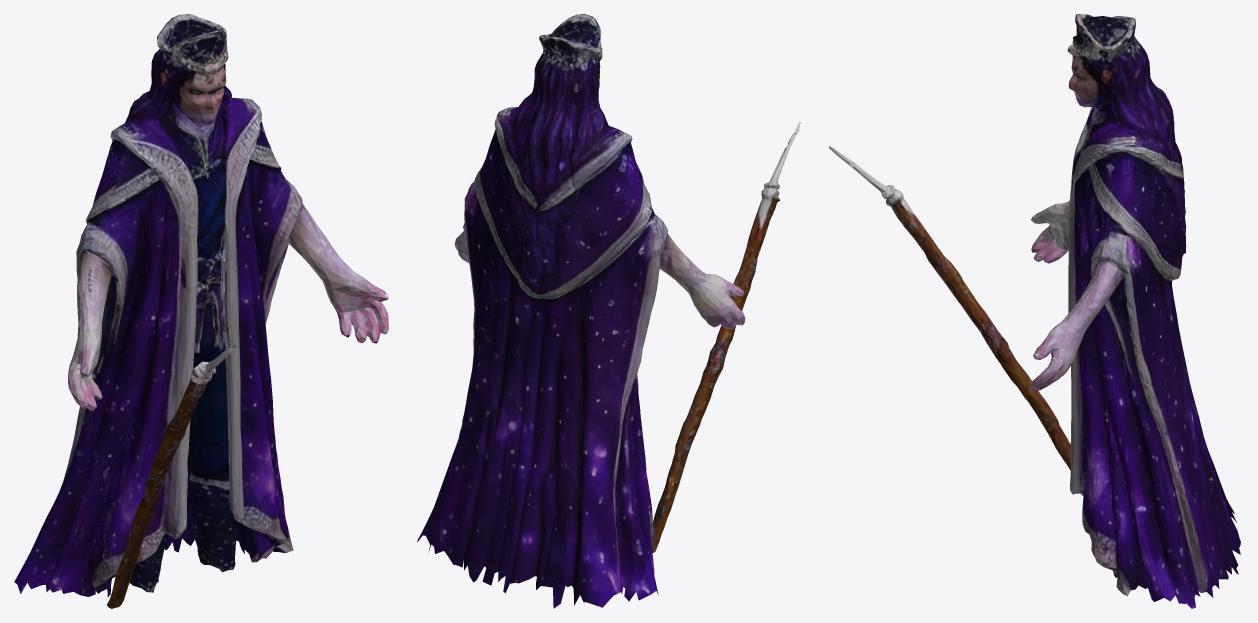
The model's file is boss_sovereign_preview.glb.
3 renders of one model, left to right at view 1: azimuth 30°, elevation 25°; view 2: azimuth 150°, elevation 25°; view 3: azimuth 270°, elevation 25°, orthographic. The views are drawn at different scales.
Visible parts, largest first — view 1: preview_mesh; view 2: preview_mesh; view 3: preview_mesh.
Boxes of the visible parts, x1,y1,x2,y2 form: preview_mesh: (14, 14, 388, 608); preview_mesh: (417, 14, 800, 608); preview_mesh: (829, 14, 1240, 608).
Bounding box in the file's own units: 9312 × 16383 × 11268.
Materials: 1 (1 with a texture image).
